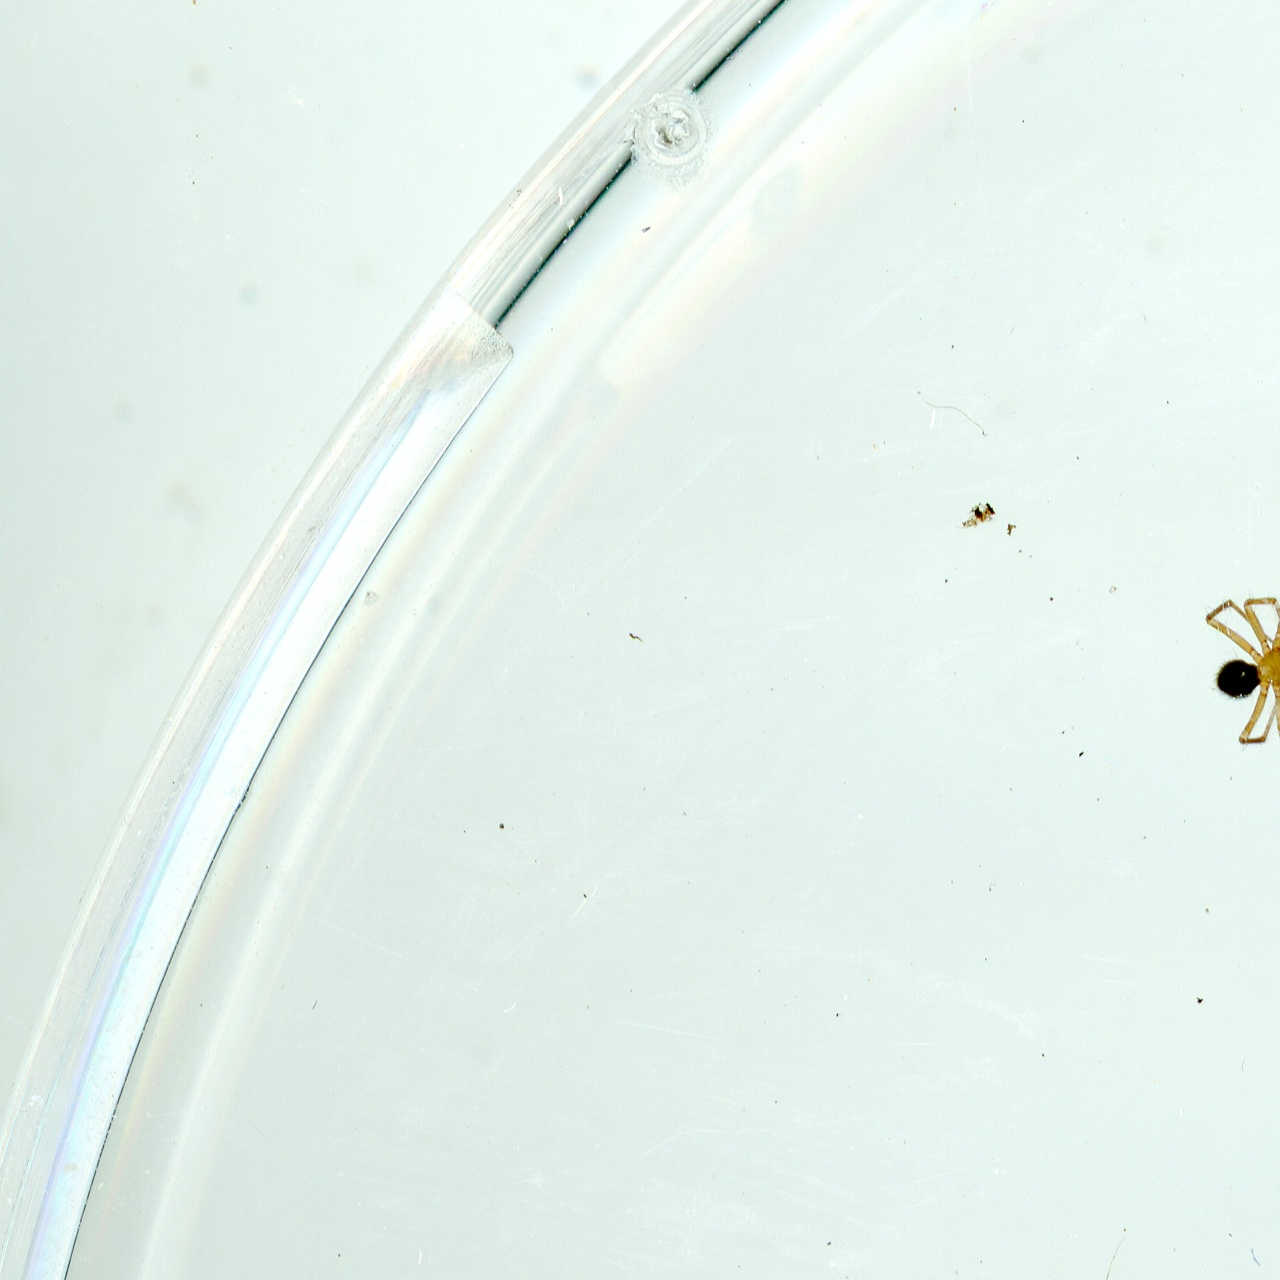arthropod: (1197, 576, 1280, 756)
